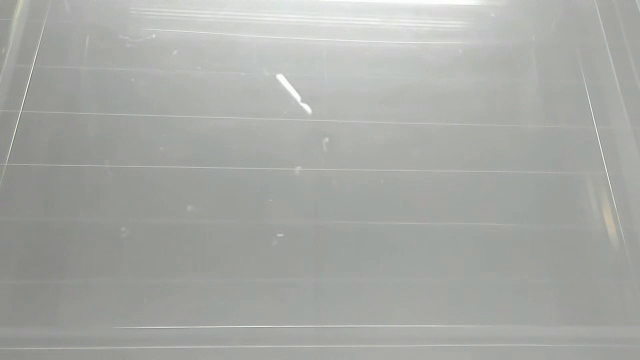alpha: (274, 68, 318, 118)
